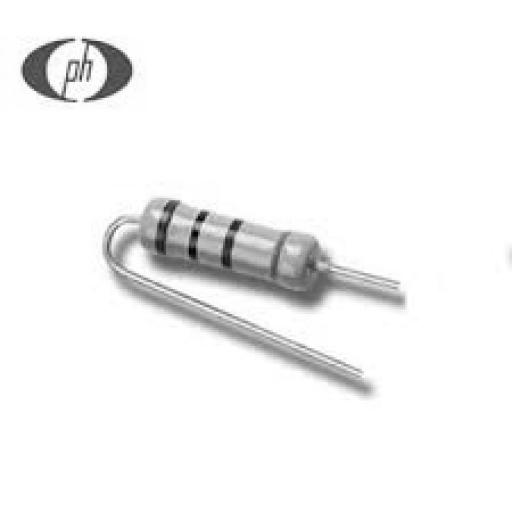RESISTOR: (74, 190, 365, 330)
